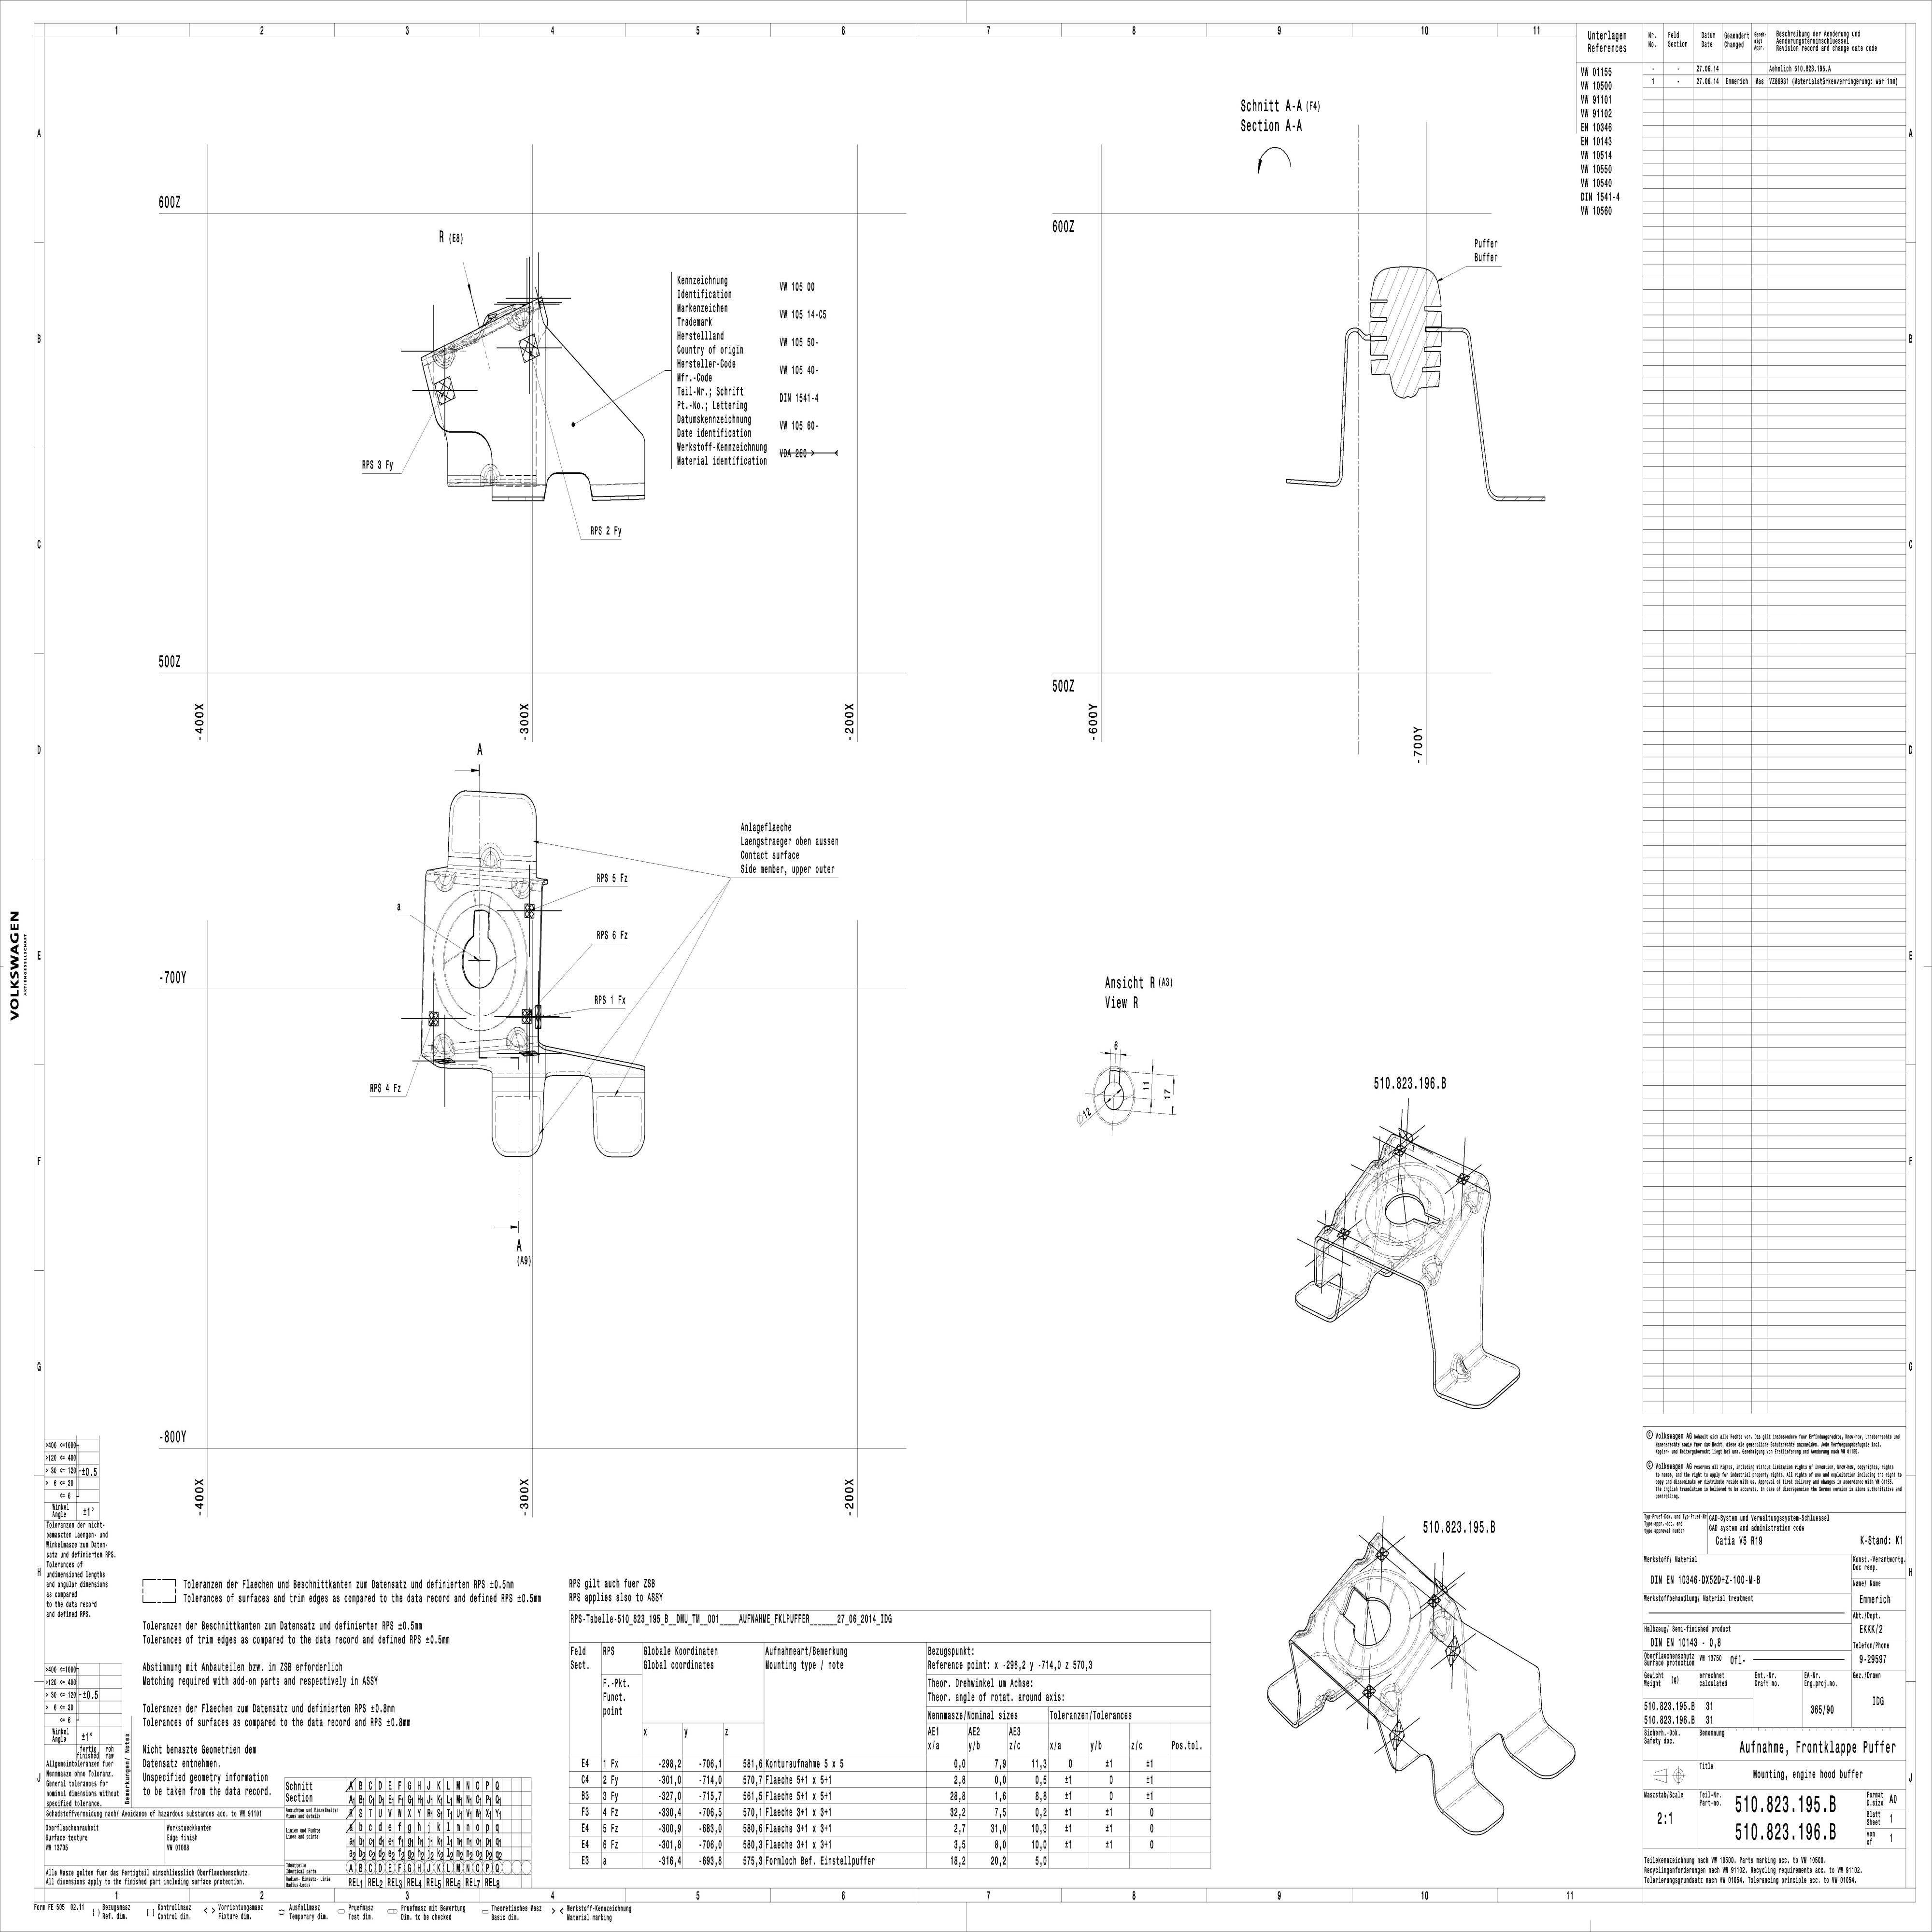BendingEdge: (1430, 1764, 1484, 1813), (1499, 1711, 1552, 1759), (1431, 1205, 1472, 1261), (451, 317, 508, 350), (1338, 1162, 1375, 1210), (1325, 1288, 1371, 1325), (488, 1074, 550, 1093), (587, 1076, 649, 1095), (460, 874, 513, 892), (1430, 1369, 1460, 1398), (453, 1037, 506, 1053), (1461, 1343, 1490, 1371), (441, 855, 481, 869), (501, 858, 540, 872), (448, 476, 487, 488), (1415, 1272, 1433, 1292), (1329, 469, 1345, 488), (1474, 1175, 1491, 1191), (1486, 488, 1502, 506), (1339, 327, 1361, 340), (418, 352, 433, 368), (1315, 1223, 1329, 1240), (1382, 1132, 1396, 1150), (1461, 324, 1472, 341), (421, 870, 433, 883), (419, 1044, 432, 1056), (531, 1033, 541, 1046), (534, 881, 545, 892), (536, 299, 545, 308)
Notch: (1460, 1727, 1550, 1822), (540, 1072, 598, 1152), (541, 465, 596, 506)
Reinforcement: (1456, 1178, 1491, 1215), (426, 336, 462, 373), (502, 303, 541, 334), (1292, 1610, 1325, 1644), (1348, 1537, 1382, 1571), (1444, 1352, 1476, 1385), (1417, 1253, 1449, 1284), (1311, 1683, 1343, 1714), (1426, 1610, 1451, 1642), (1378, 1684, 1403, 1716), (1322, 1205, 1348, 1233), (506, 1024, 531, 1053), (432, 870, 458, 893), (481, 842, 499, 874), (432, 1031, 453, 1058), (513, 878, 533, 899), (1371, 1148, 1389, 1162), (481, 465, 495, 476)
